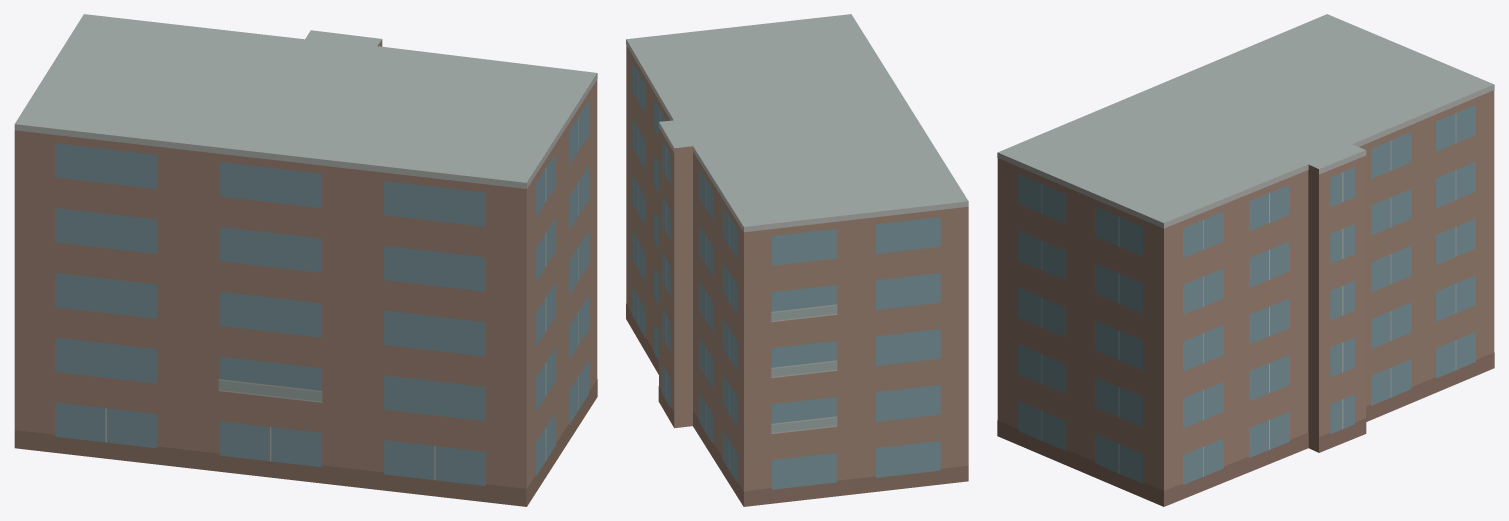
Rendered from survey-upis-32997382.glb.
3 renders of one model, left to right at view 1: azimuth 30°, elevation 25°; view 2: azimuth 150°, elevation 25°; view 3: azimuth 270°, elevation 25°, orthographic. The views are drawn at different scales.
Visible parts, largest first — view 1: survey-upis-32997382.tmp; view 2: survey-upis-32997382.tmp; view 3: survey-upis-32997382.tmp.
Boxes of the visible parts, x1,y1,x2,y2 form: survey-upis-32997382.tmp: (14,14,597,506); survey-upis-32997382.tmp: (626,14,968,506); survey-upis-32997382.tmp: (997,14,1494,506).
Size of the model in its own units: 20.25 by 12.8 by 20.32.
